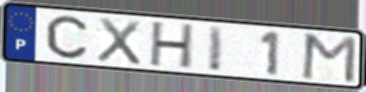1: (259, 30, 282, 76)
C: (43, 13, 90, 60)
H: (147, 21, 197, 71)
I: (206, 23, 227, 74)
M: (299, 32, 359, 85)
X: (94, 15, 144, 67)
